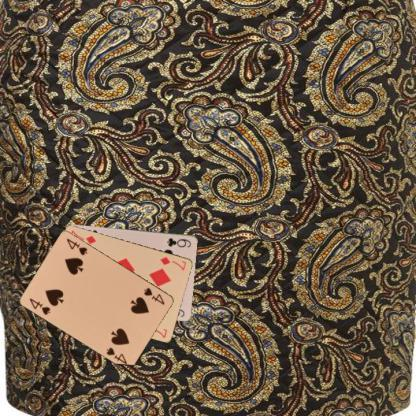4s: (141, 284, 166, 306), (27, 295, 52, 316)
6c: (165, 235, 192, 249)
7d: (158, 254, 187, 272)
